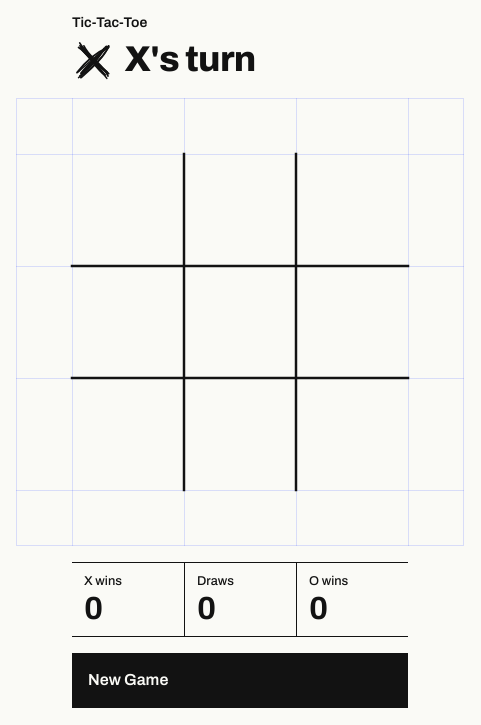
Test case: <Game /> › draws an X and passes the turn to O
The image size is (481, 725).
Click the button named "Square 2,2, empty".
click(240, 322)  # box 184,266 -> 296,378
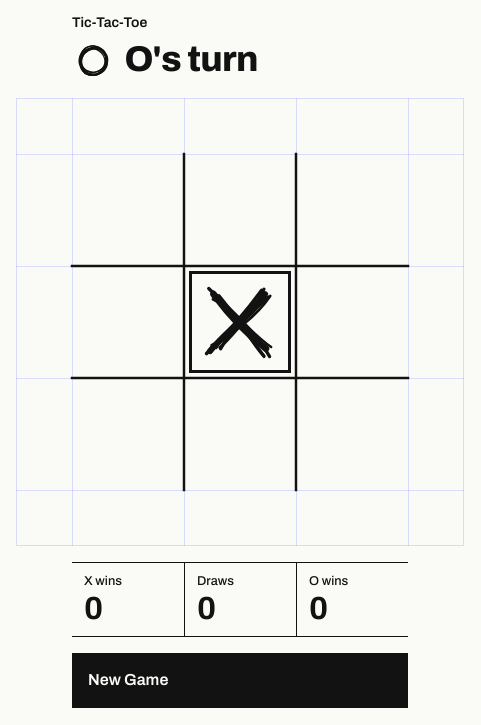
Now the message reads "O's turn", box 125,40 -> 258,79
